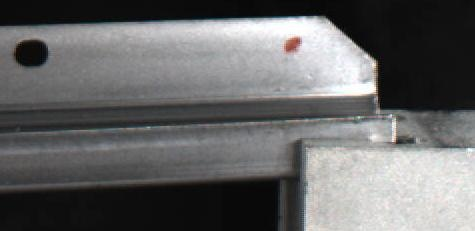cut: (227, 15, 398, 176)
holes: (12, 36, 49, 68)
